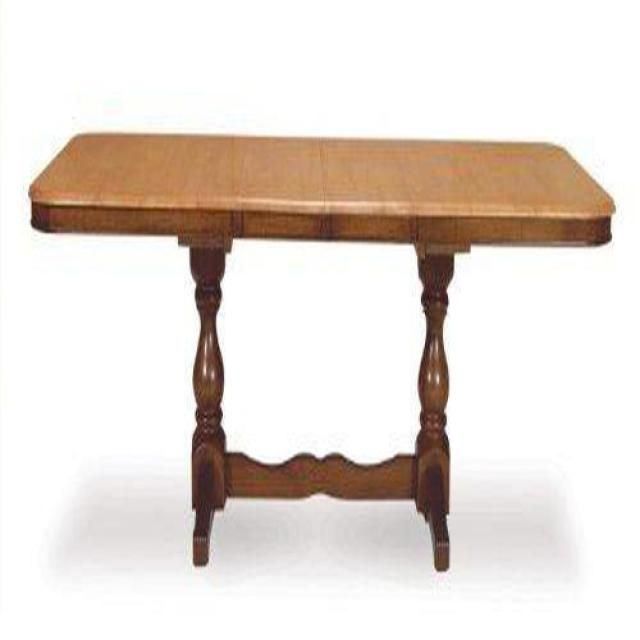table: (29, 133, 617, 573)
